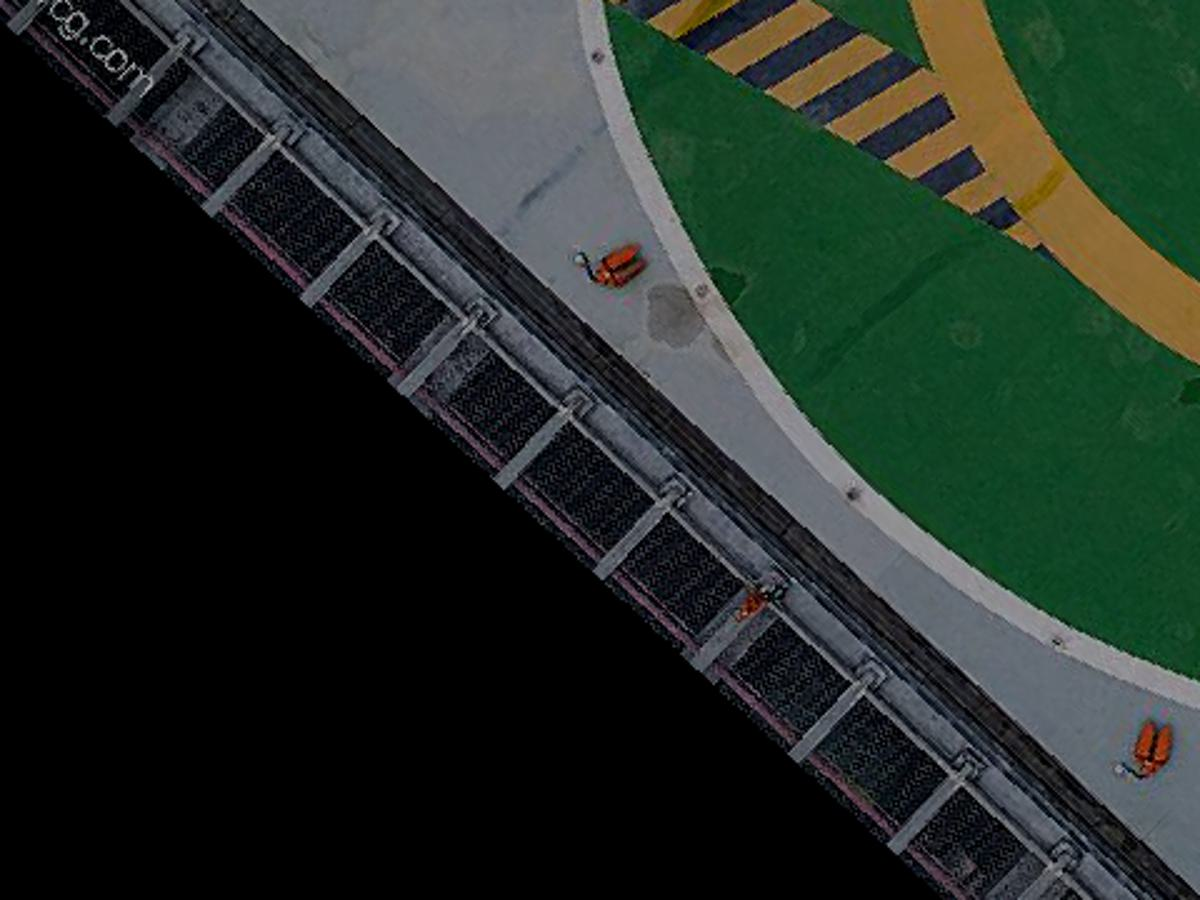Apron: (891, 3, 1200, 381)
